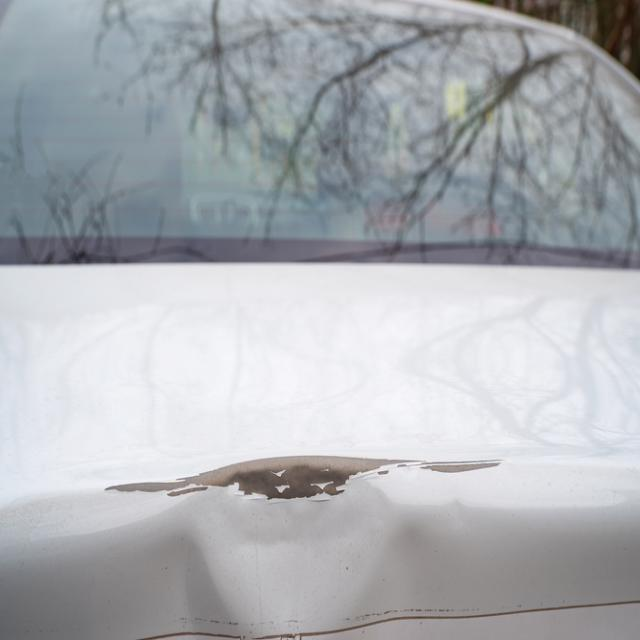Cabossage: (173, 475, 422, 640)
Rayure: (101, 435, 515, 521)
